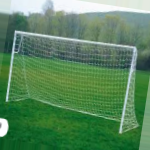goals: (5, 27, 141, 138)
